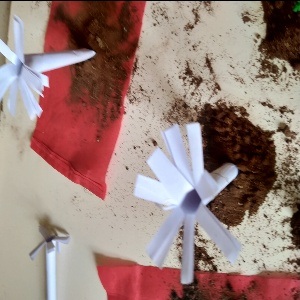weed: (125, 120, 245, 272), (2, 18, 125, 113), (18, 215, 85, 300)
